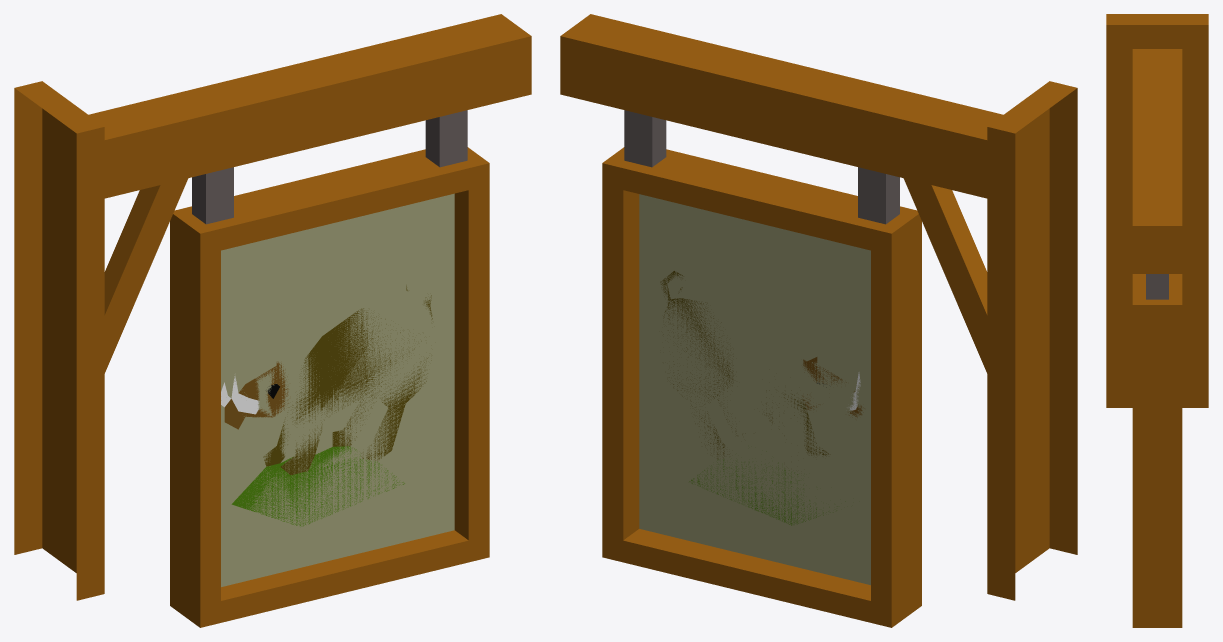
3 views of the same model, side by side, from view 1: azimuth 30°, elevation 25°; view 2: azimuth 150°, elevation 25°; view 3: azimuth 270°, elevation 25° (orthographic). The views are drawn at different scales.
Size of the model in its own units: 1.05 by 1.16 by 0.2422.
